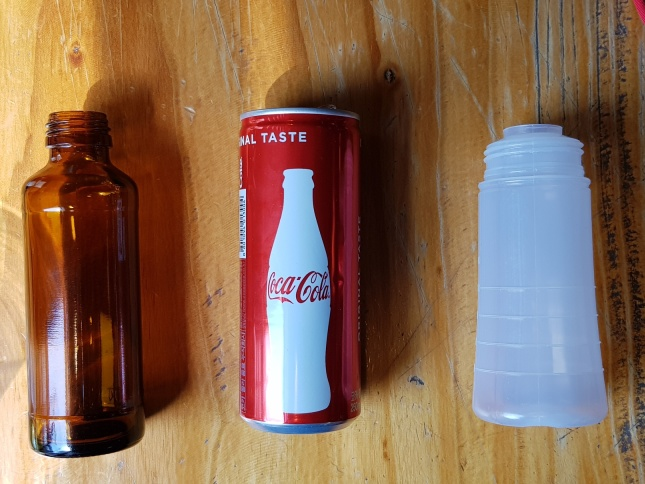Can: (228, 105, 372, 434)
Glass: (20, 107, 143, 458)
Plastic: (467, 111, 614, 441)
